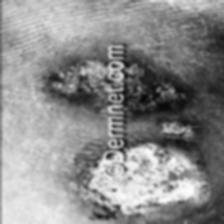Toxin: (87, 172, 203, 220), (134, 122, 192, 171), (124, 67, 178, 113), (52, 59, 104, 95)
